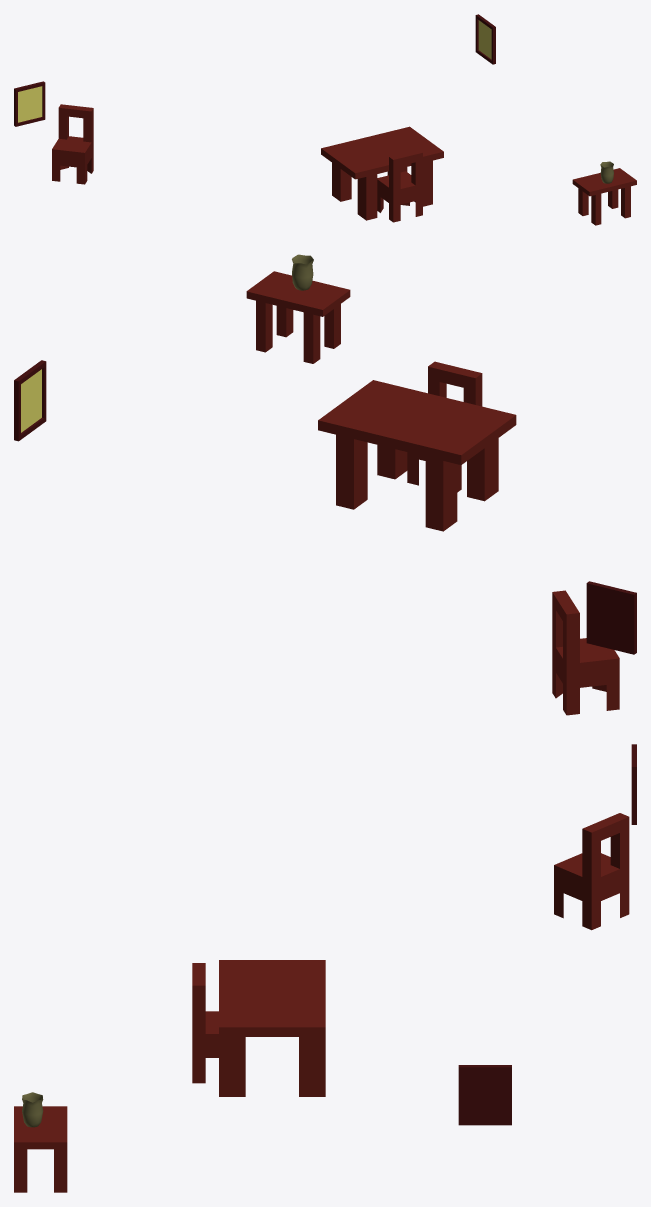
File: tool.fbx
3 renders of one model, top to bottom at view 1: azimuth 30°, elevation 25°; view 2: azimuth 150°, elevation 25°; view 3: azimuth 270°, elevation 25°, orthographic. The views are drawn at different scales.
Parts seen in each view (by area): view 1: Table, Cheir, Cheir.001, Table.002, Picture.001, Picture; view 2: Table, Table.002, Cheir, Picture.001, Cheir.001, Picture, FlowerVase; view 3: Table, Cheir, Picture, Table.002, Cheir.001, FlowerVase.
Boxes of the visible parts, x1=… form: Table: x1=321, y1=126, x2=443, y2=220; Cheir: x1=52, y1=104, x2=93, y2=184; Cheir.001: x1=377, y1=149, x2=422, y2=222; Table.002: x1=572, y1=168, x2=636, y2=225; Picture.001: x1=14, y1=81, x2=45, y2=126; Picture: x1=475, y1=14, x2=495, y2=64; Table: x1=318, y1=380, x2=516, y2=531; Table.002: x1=246, y1=271, x2=350, y2=363; Cheir: x1=552, y1=590, x2=619, y2=715; Picture.001: x1=586, y1=581, x2=636, y2=654; Cheir.001: x1=407, y1=361, x2=482, y2=492; Picture: x1=14, y1=360, x2=46, y2=441; FlowerVase: x1=292, y1=254, x2=313, y2=290; Table: x1=219, y1=960, x2=325, y2=1096; Cheir: x1=554, y1=813, x2=629, y2=930; Picture: x1=458, y1=1065, x2=511, y2=1125; Table.002: x1=14, y1=1106, x2=67, y2=1192; Cheir.001: x1=192, y1=963, x2=218, y2=1083; FlowerVase: x1=22, y1=1092, x2=43, y2=1127.
Bounding box in the file's own units: 1435 × 282 × 1170.
